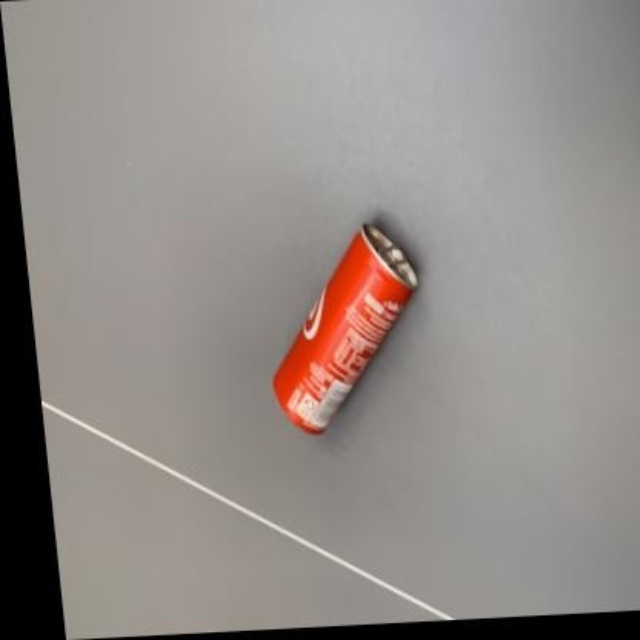trash: (274, 223, 417, 432)
